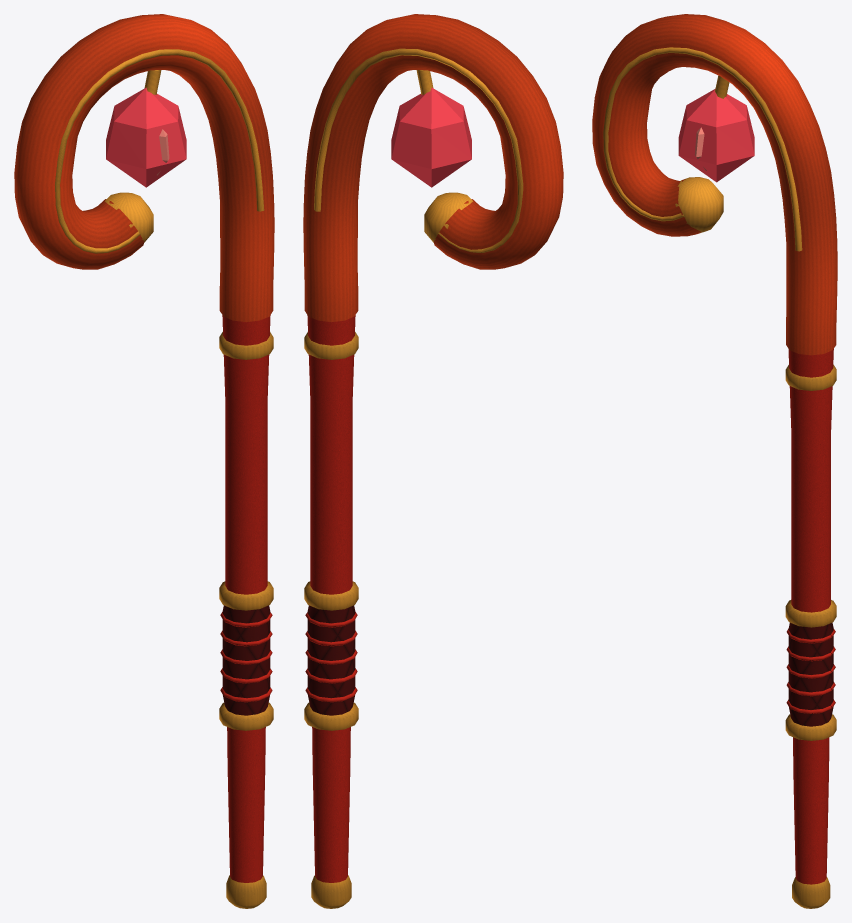
File: cane_of_somaria.glb
The picture shows the model from 3 angles, left to right: view 1: azimuth 30°, elevation 25°; view 2: azimuth 150°, elevation 25°; view 3: azimuth 330°, elevation 25°; orthographic projection. The views are drawn at different scales.
Visible parts, largest first — view 1: Continuous red Somaria crook, Slender red staff, Suspended red Somaria ruby, Dark red hand grip, Fine gold crook front edge, Gold shaft ferrule (×3), Hook terminal gold bead, Golden foot cap; view 2: Continuous red Somaria crook, Slender red staff, Suspended red Somaria ruby, Dark red hand grip, Fine gold crook back edge, Gold shaft ferrule (×3), Hook terminal gold bead, Golden foot cap; view 3: Continuous red Somaria crook, Slender red staff, Suspended red Somaria ruby, Dark red hand grip, Fine gold crook front edge, Gold shaft ferrule (×3), Hook terminal gold bead, Golden foot cap.
Boxes of the visible parts, bbox=[...] form: Continuous red Somaria crook: bbox=[14, 14, 274, 322]; Slender red staff: bbox=[222, 315, 270, 882]; Suspended red Somaria ruby: bbox=[106, 87, 186, 187]; Dark red hand grip: bbox=[222, 605, 270, 715]; Fine gold crook front edge: bbox=[55, 49, 264, 253]; Gold shaft ferrule (×3): bbox=[219, 332, 273, 730]; Hook terminal gold bead: bbox=[105, 192, 153, 242]; Golden foot cap: bbox=[226, 875, 266, 908]; Continuous red Somaria crook: bbox=[303, 14, 563, 322]; Slender red staff: bbox=[307, 315, 355, 882]; Suspended red Somaria ruby: bbox=[391, 87, 471, 187]; Dark red hand grip: bbox=[307, 605, 355, 715]; Fine gold crook back edge: bbox=[314, 48, 523, 252]; Gold shaft ferrule (×3): bbox=[304, 332, 358, 730]; Hook terminal gold bead: bbox=[424, 192, 472, 242]; Golden foot cap: bbox=[311, 875, 351, 908]; Continuous red Somaria crook: bbox=[592, 14, 837, 355]; Slender red staff: bbox=[788, 349, 833, 884]; Suspended red Somaria ruby: bbox=[678, 89, 754, 182]; Dark red hand grip: bbox=[788, 622, 833, 726]; Fine gold crook front edge: bbox=[603, 47, 802, 251]; Gold shaft ferrule (×3): bbox=[785, 364, 836, 740]; Hook terminal gold bead: bbox=[675, 177, 723, 232]; Golden foot cap: bbox=[792, 877, 830, 908].
Bounding box in the file's own units: 10.17 × 34.99 × 2.91.
Materials: 6 (4 with a texture image).
